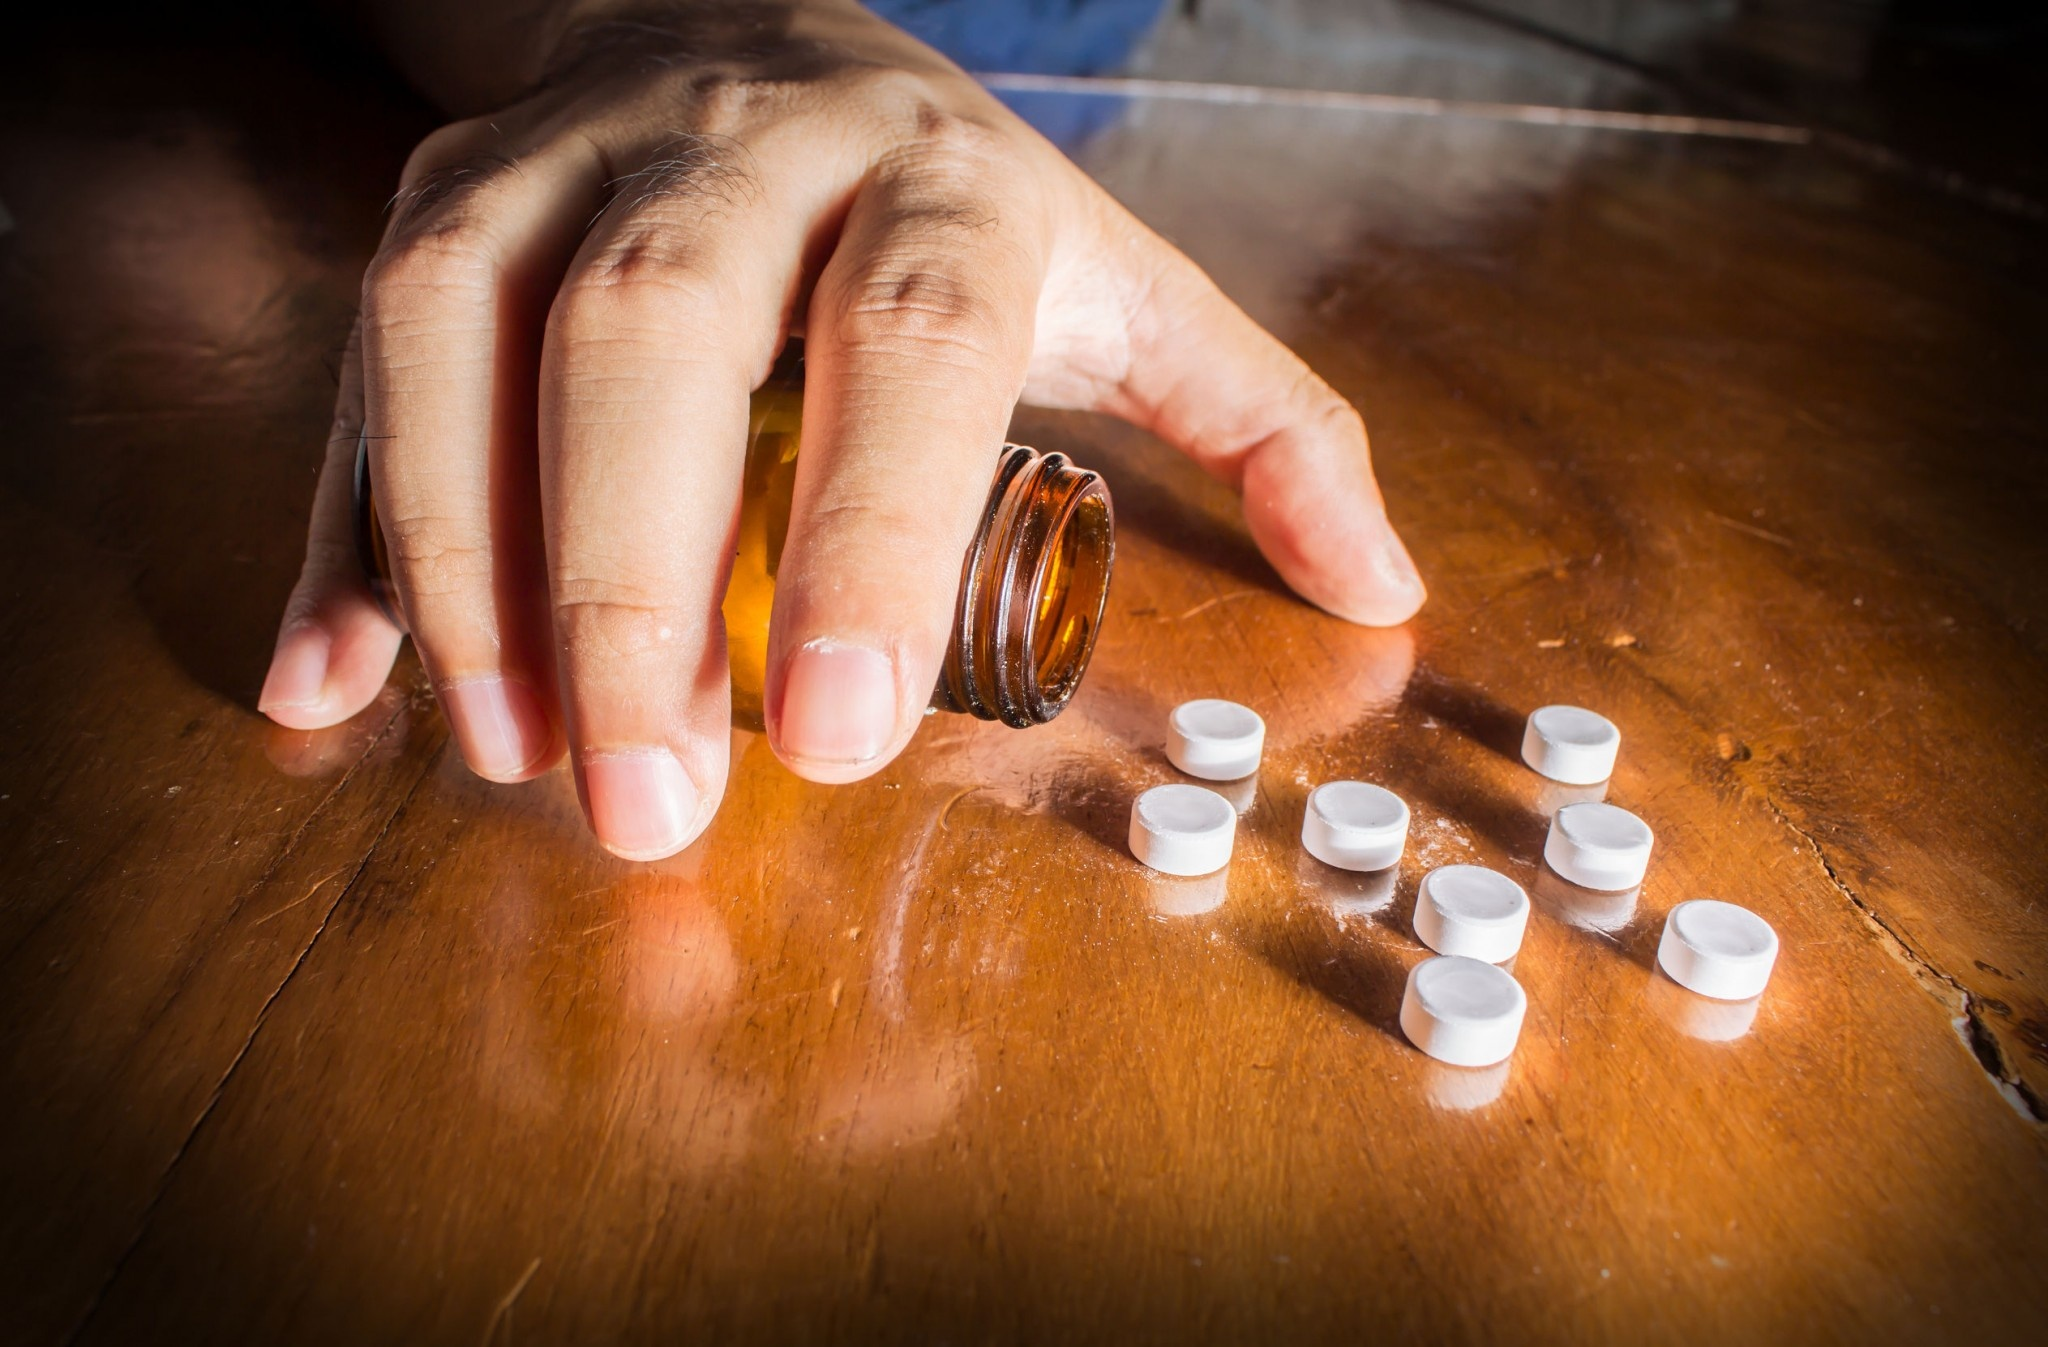pills: (1509, 701, 1645, 779), (1657, 902, 1794, 980), (1169, 698, 1306, 776), (1388, 970, 1525, 1048), (1409, 866, 1545, 944), (1540, 810, 1675, 888), (1289, 782, 1424, 860), (1116, 779, 1252, 857)
